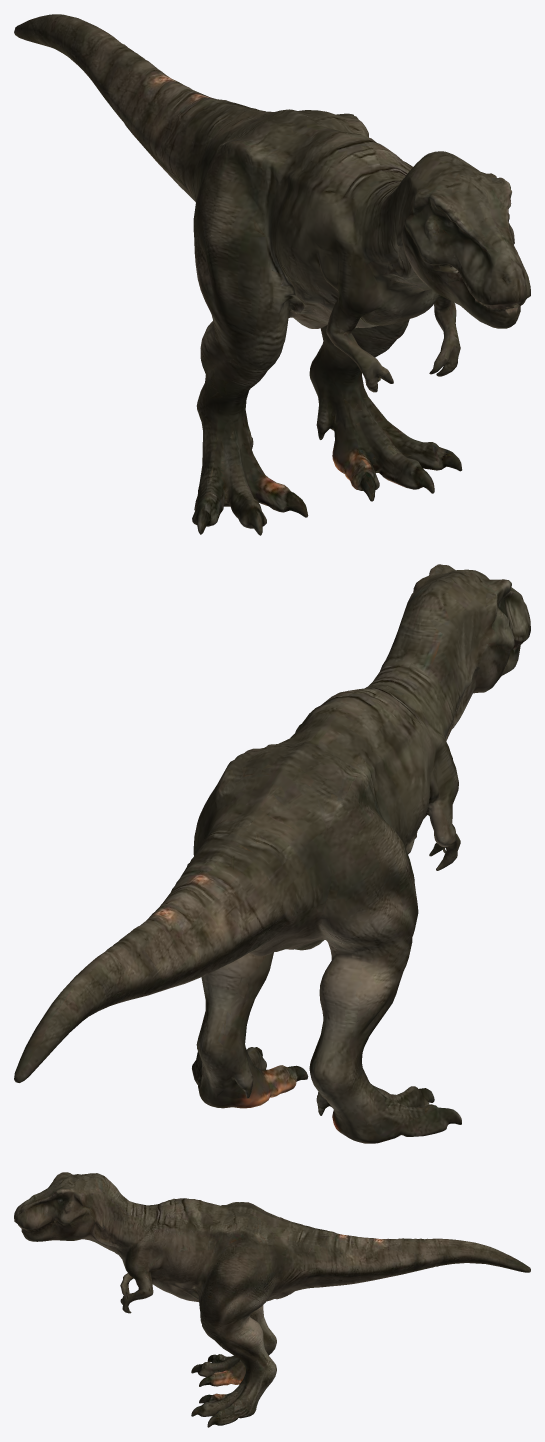
File: trex.glb
3 renders of one model, top to bottom at view 1: azimuth 30°, elevation 25°; view 2: azimuth 150°, elevation 25°; view 3: azimuth 270°, elevation 25°, orthographic. The views are drawn at different scales.
Visible parts, largest first — view 1: Mesh_0; view 2: Mesh_0; view 3: Mesh_0.
Boxes of the visible parts, x1,y1,x2,y2 form: Mesh_0: [14, 14, 530, 535]; Mesh_0: [14, 564, 530, 1143]; Mesh_0: [14, 1172, 530, 1427].
Bounding box in the file's own units: 0.5723 × 0.8982 × 1.9.
1 material, 1 textured.
